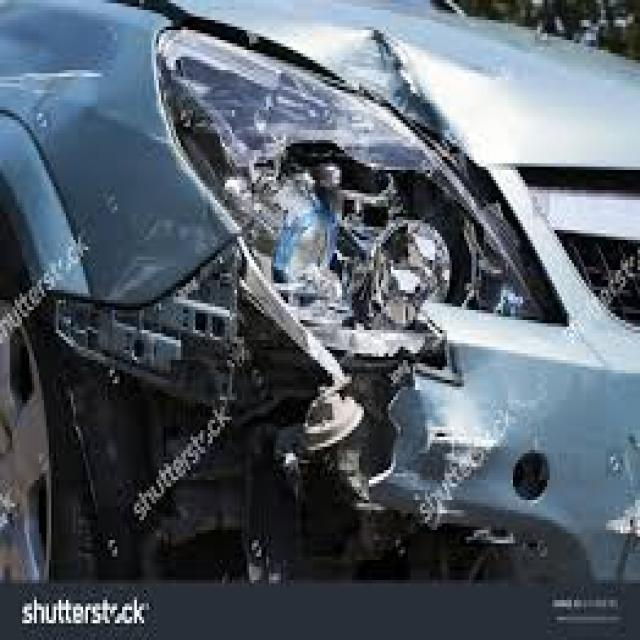damaged-head-light: (166, 26, 538, 322)
